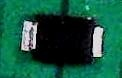diode: (18, 11, 106, 68)
